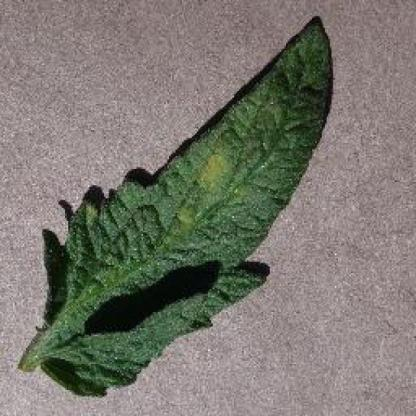Tomato_Leaf_Mold: (73, 16, 335, 303)
